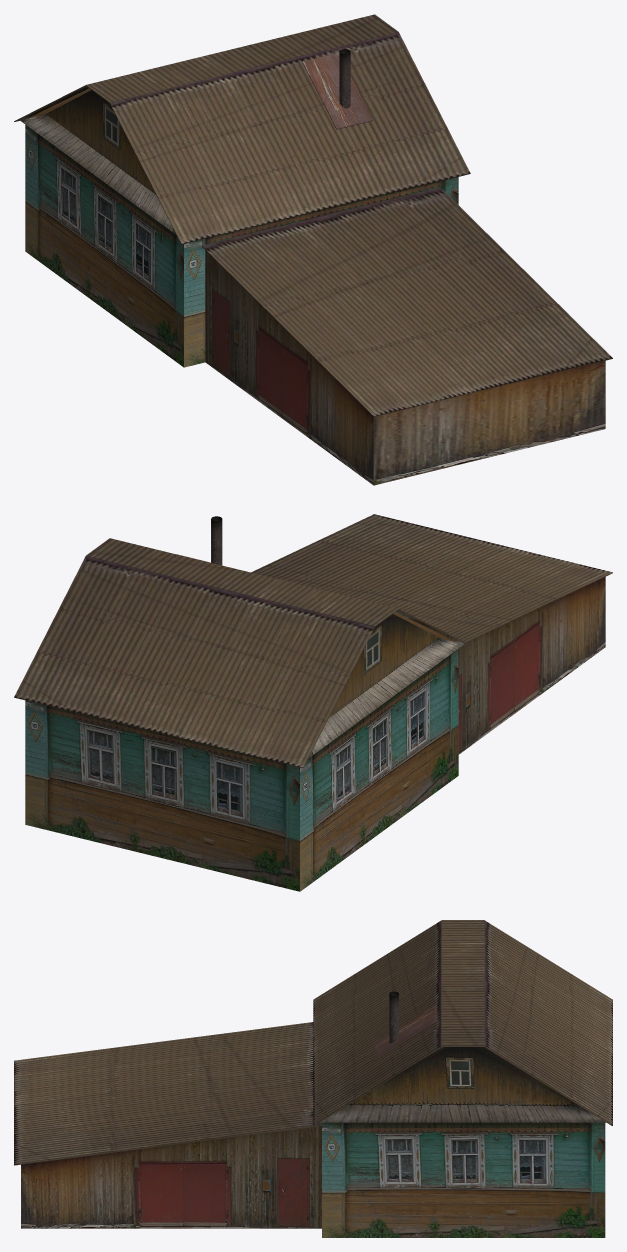
The model's file is sibir_domik8.FBX.
3 views of the same model, one above another, from view 1: azimuth 30°, elevation 25°; view 2: azimuth 150°, elevation 25°; view 3: azimuth 270°, elevation 25° (orthographic). The views are drawn at different scales.
Parts seen in each view (by area): view 1: sibir_domik8; view 2: sibir_domik8; view 3: sibir_domik8.
Part boxes in pixels (x1,y1,x2,y2): sibir_domik8: [14, 14, 612, 485]; sibir_domik8: [14, 514, 612, 891]; sibir_domik8: [14, 920, 612, 1237].
Bounding box in the file's own units: 8.44 × 16.9 × 6.61.
